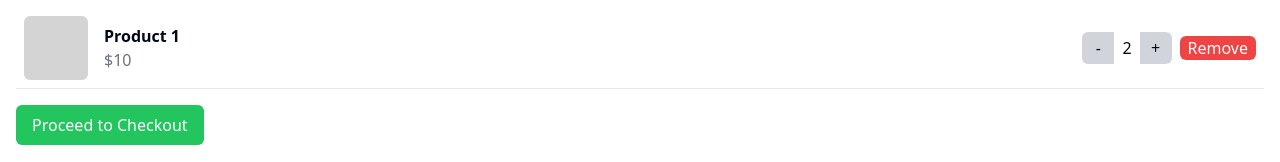
Test case: Cart › decreases the quantity of an item
Click the button "-" at (1098, 48), box [1082,32,1114,64]
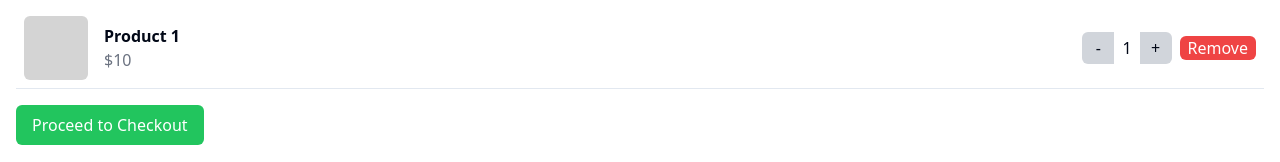
Result: the text "1" is shown at [1122,37,1132,59]
